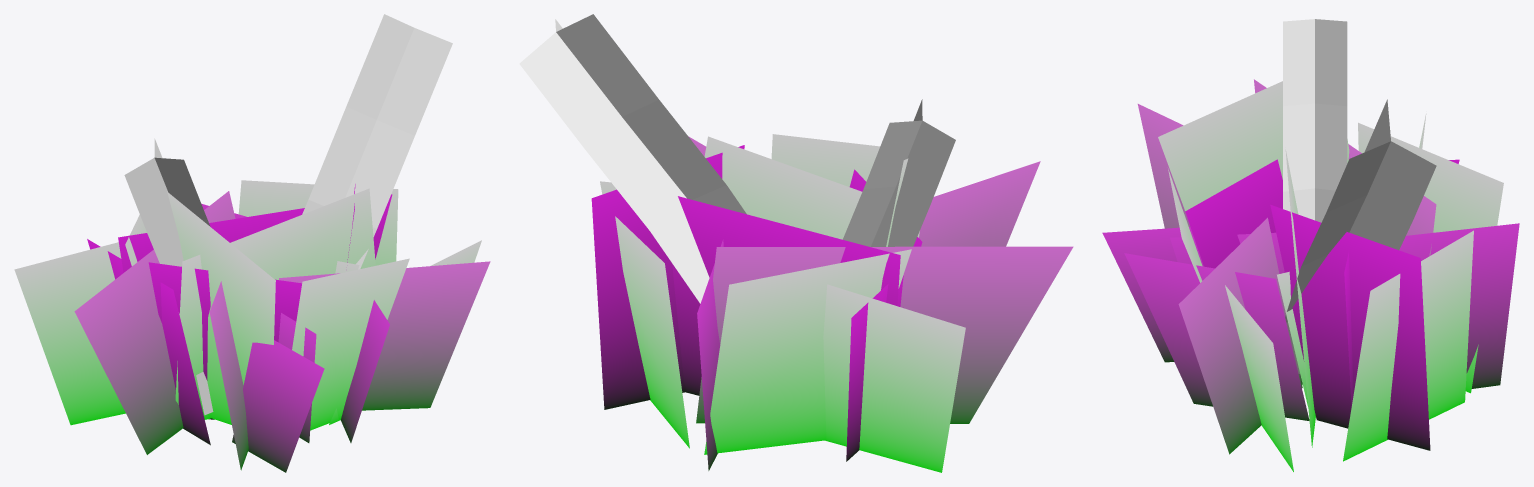
File: Veg_Sentinel_Grass.fbx
3 views of the same model, side by side, from view 1: azimuth 30°, elevation 25°; view 2: azimuth 150°, elevation 25°; view 3: azimuth 270°, elevation 25° (orthographic). The views are drawn at different scales.
Parts seen in each view (by area): view 1: Veg_Sentinel_Grass; view 2: Veg_Sentinel_Grass; view 3: Veg_Sentinel_Grass.
Boxes of the visible parts, <box> form: Veg_Sentinel_Grass: <box>14,14,490,472</box>; Veg_Sentinel_Grass: <box>519,14,1073,472</box>; Veg_Sentinel_Grass: <box>1102,19,1519,471</box>.
Size of the model in its own units: 88.12 by 67.14 by 68.53.
